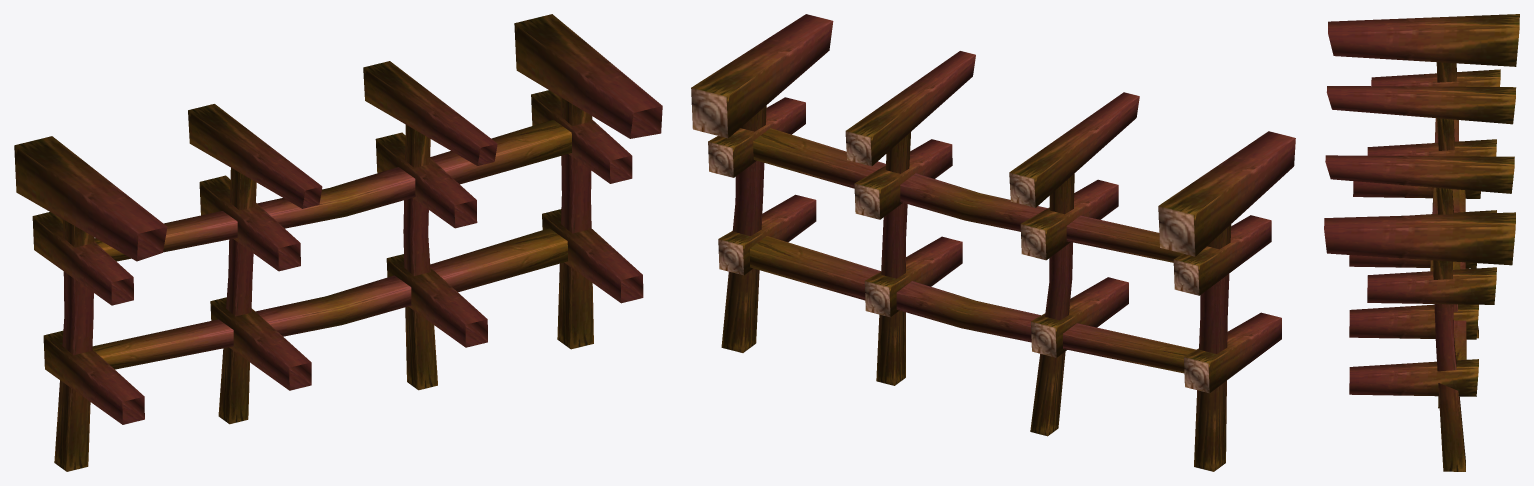
File: environment_common_kuangkengwall_001_a.FBX
3 views of the same model, side by side, from view 1: azimuth 30°, elevation 25°; view 2: azimuth 150°, elevation 25°; view 3: azimuth 270°, elevation 25° (orthographic). The views are drawn at different scales.
Parts seen in each view (by area): view 1: environment_common_kuangkengwall_001_a; view 2: environment_common_kuangkengwall_001_a; view 3: environment_common_kuangkengwall_001_a.
Boxes of the visible parts, x1,y1,x2,y2 form: environment_common_kuangkengwall_001_a: (14,14,662,471); environment_common_kuangkengwall_001_a: (691,14,1295,471); environment_common_kuangkengwall_001_a: (1324,14,1519,471).
Bounding box in the file's own units: 989 × 529 × 380.
